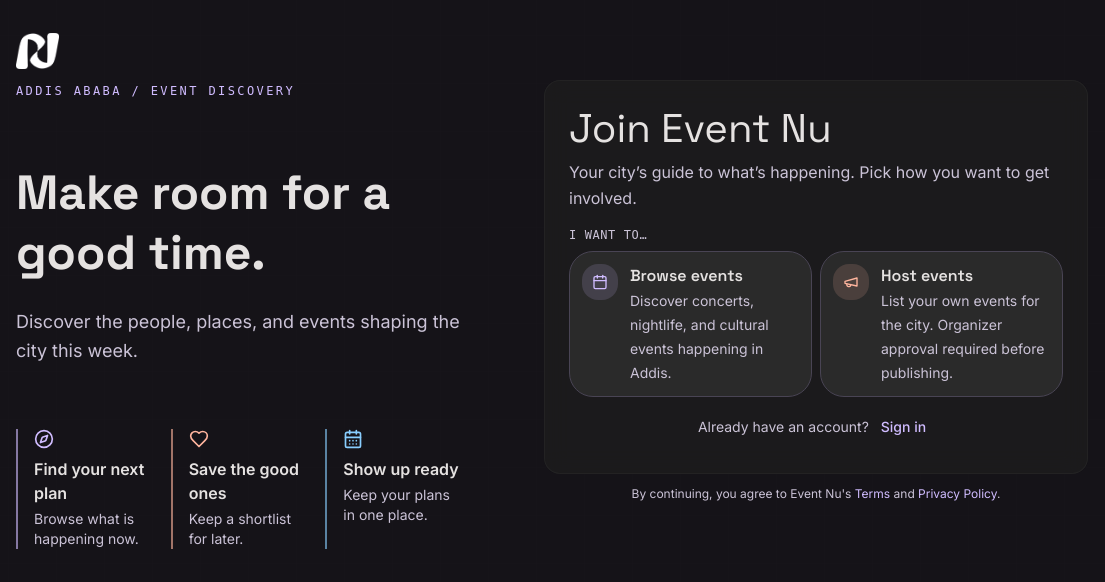
Test: AuthPage — Functional Tests › sign-in form validation › shows error when submitting with empty email
Click the button "Sign in". click: (904, 427)
box: left=873, top=405, right=934, bottom=449
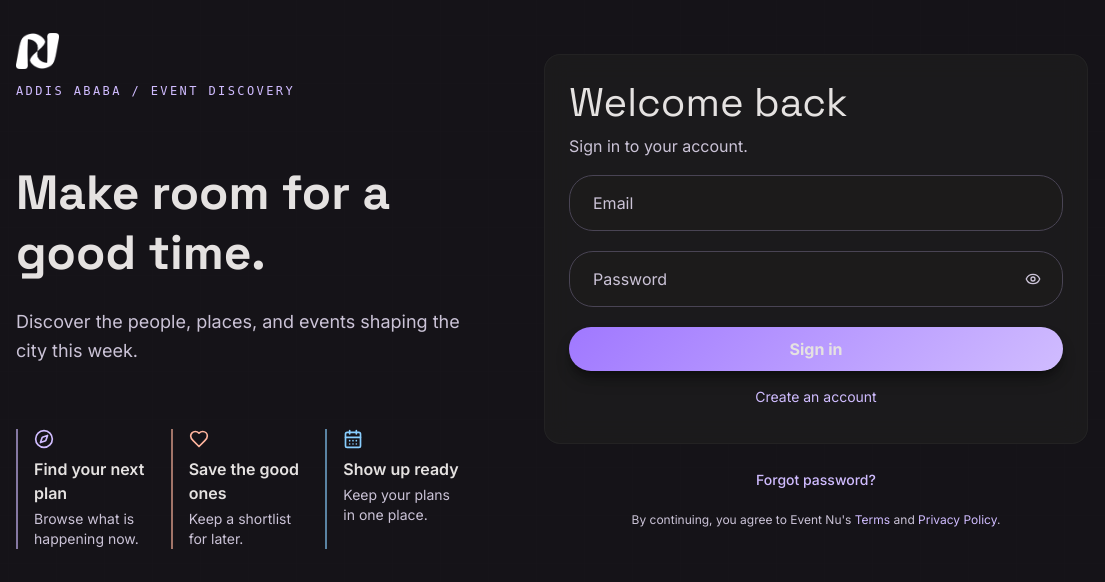
Click the button "Sign in". click: (816, 349)
box: left=569, top=327, right=1063, bottom=371
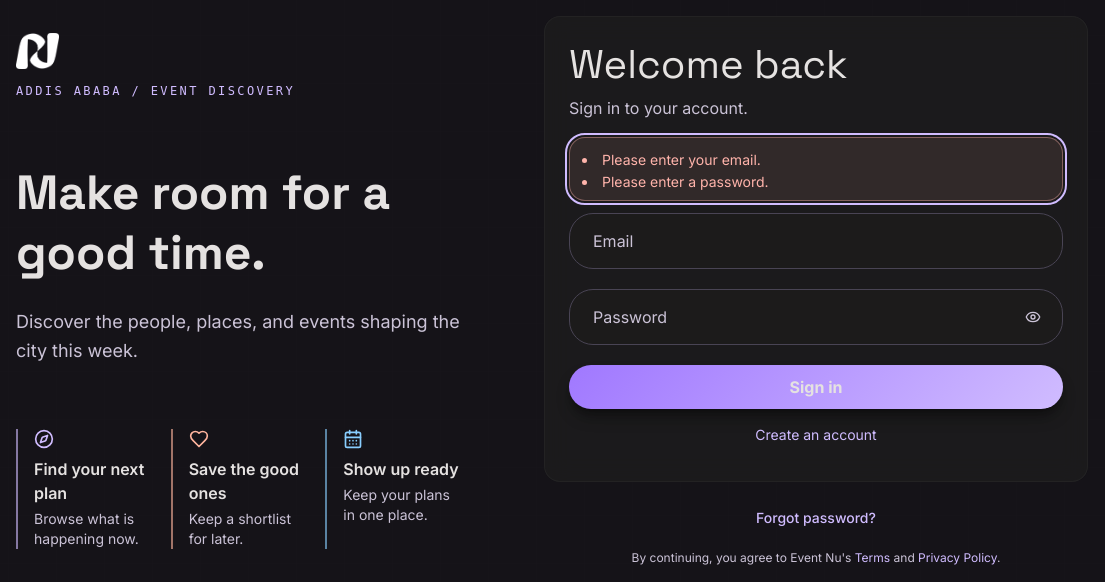
Expected: the list item "Please enter your email." is shown, left=602, top=151, right=761, bottom=168
